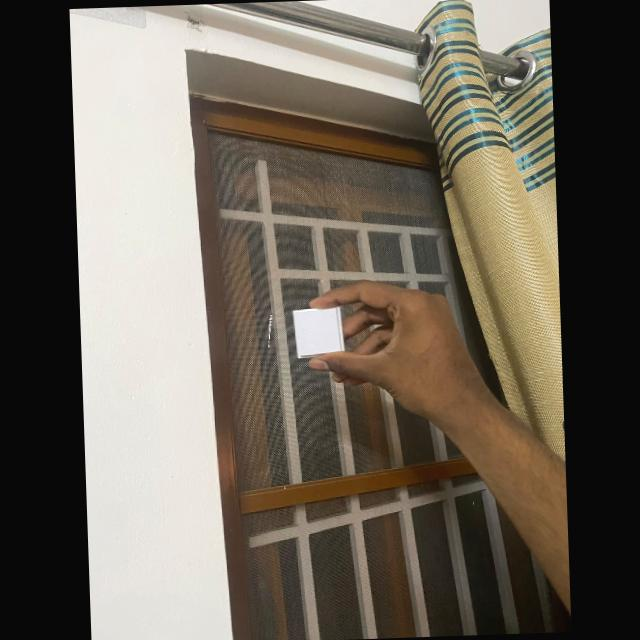RASPBERY PI CAM ENCLOSURE: (292, 305, 346, 359)
